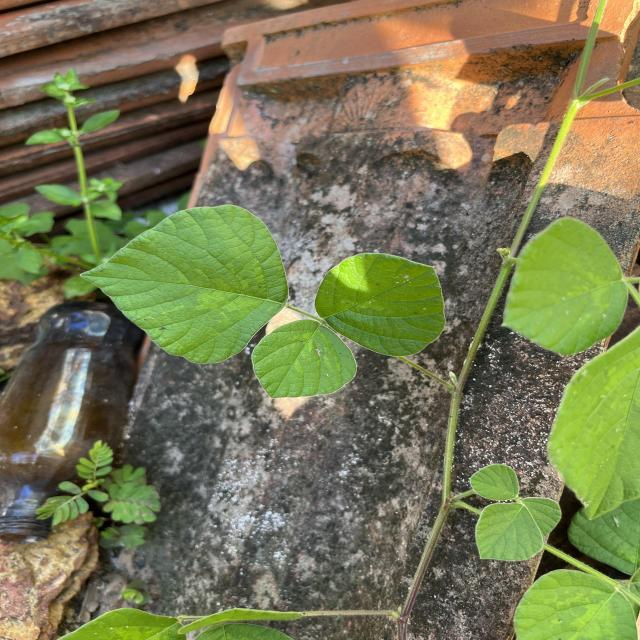Pseudarthria viscida: (76, 201, 450, 401)
